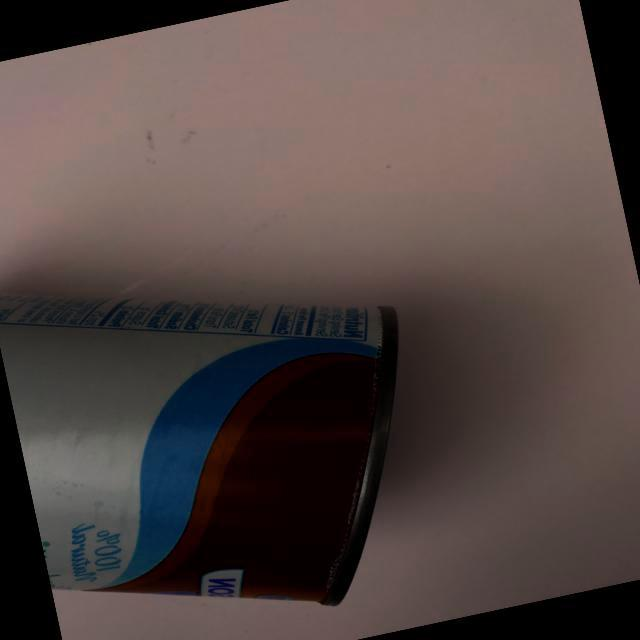metal: (0, 206, 461, 640)
